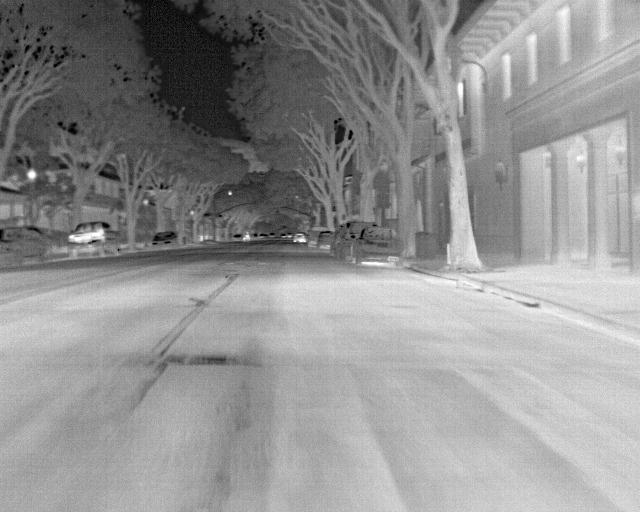bicycle: (351, 224, 403, 266), (66, 219, 122, 257), (0, 224, 47, 267), (335, 220, 380, 263), (149, 232, 180, 254), (316, 229, 337, 252), (290, 232, 308, 246)
